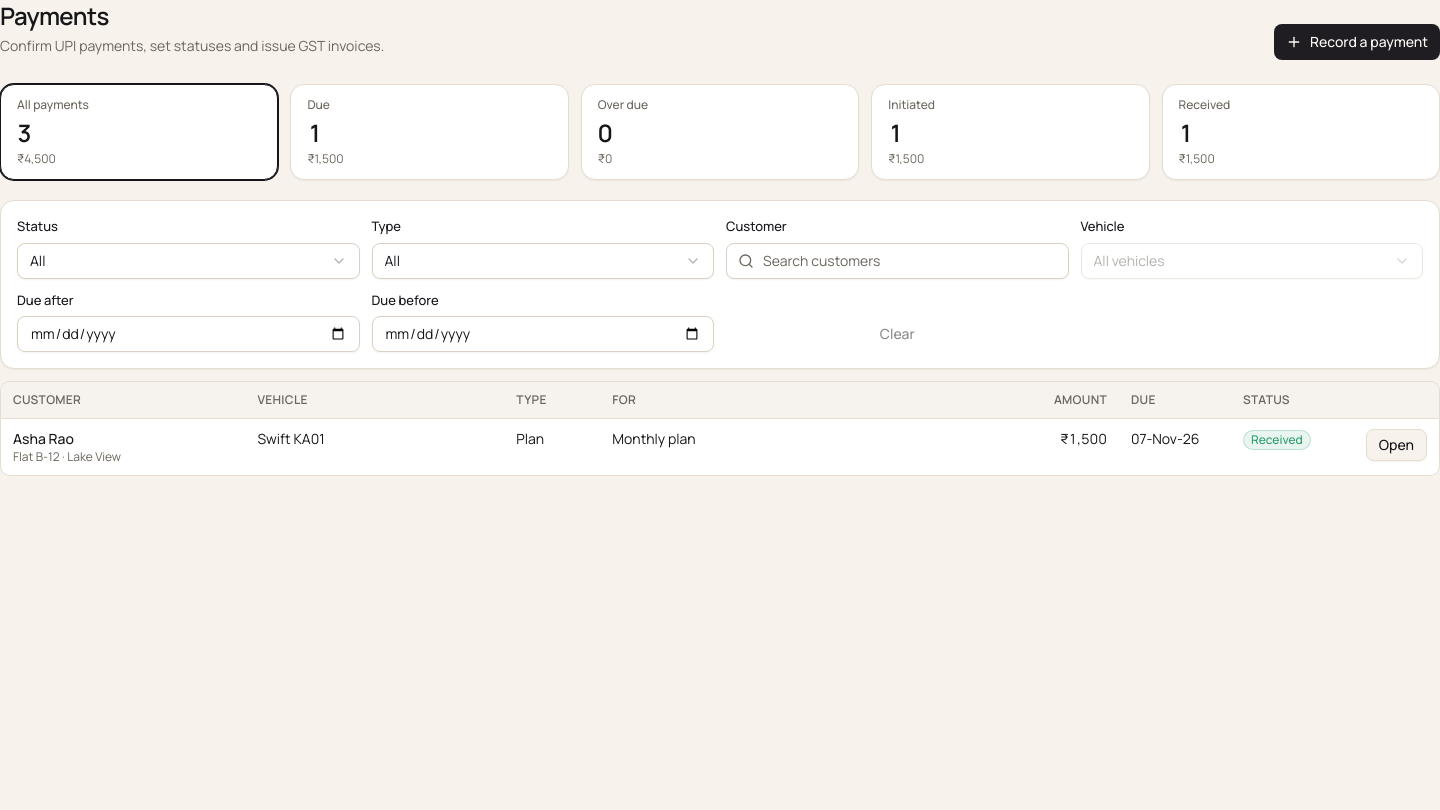
Test: payments page › issues an invoice for a Received payment after asking
Click the button "Open".
click(1396, 444)  # box [1366, 428, 1427, 460]
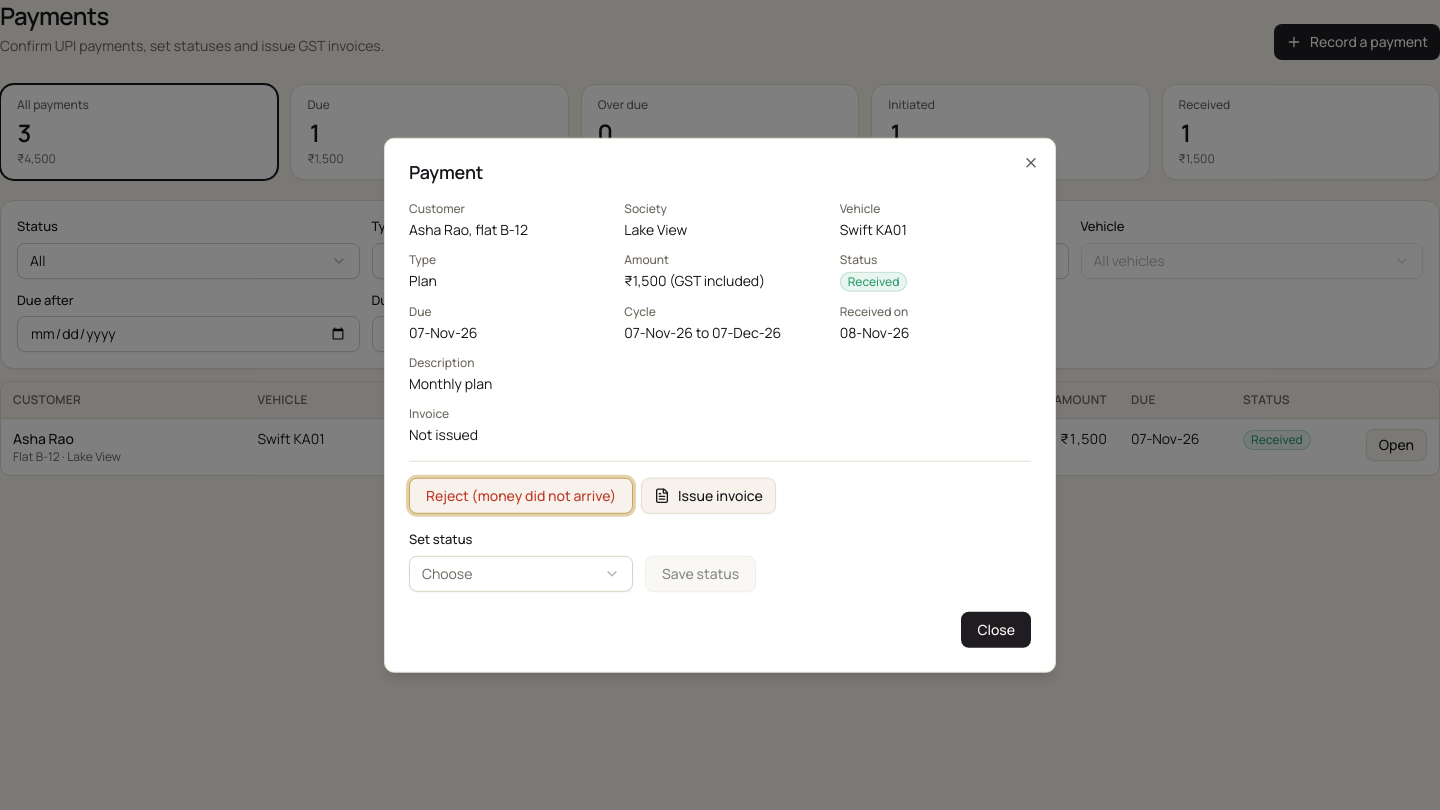
Click the button "Issue invoice".
click(708, 496)  # box [641, 478, 776, 514]
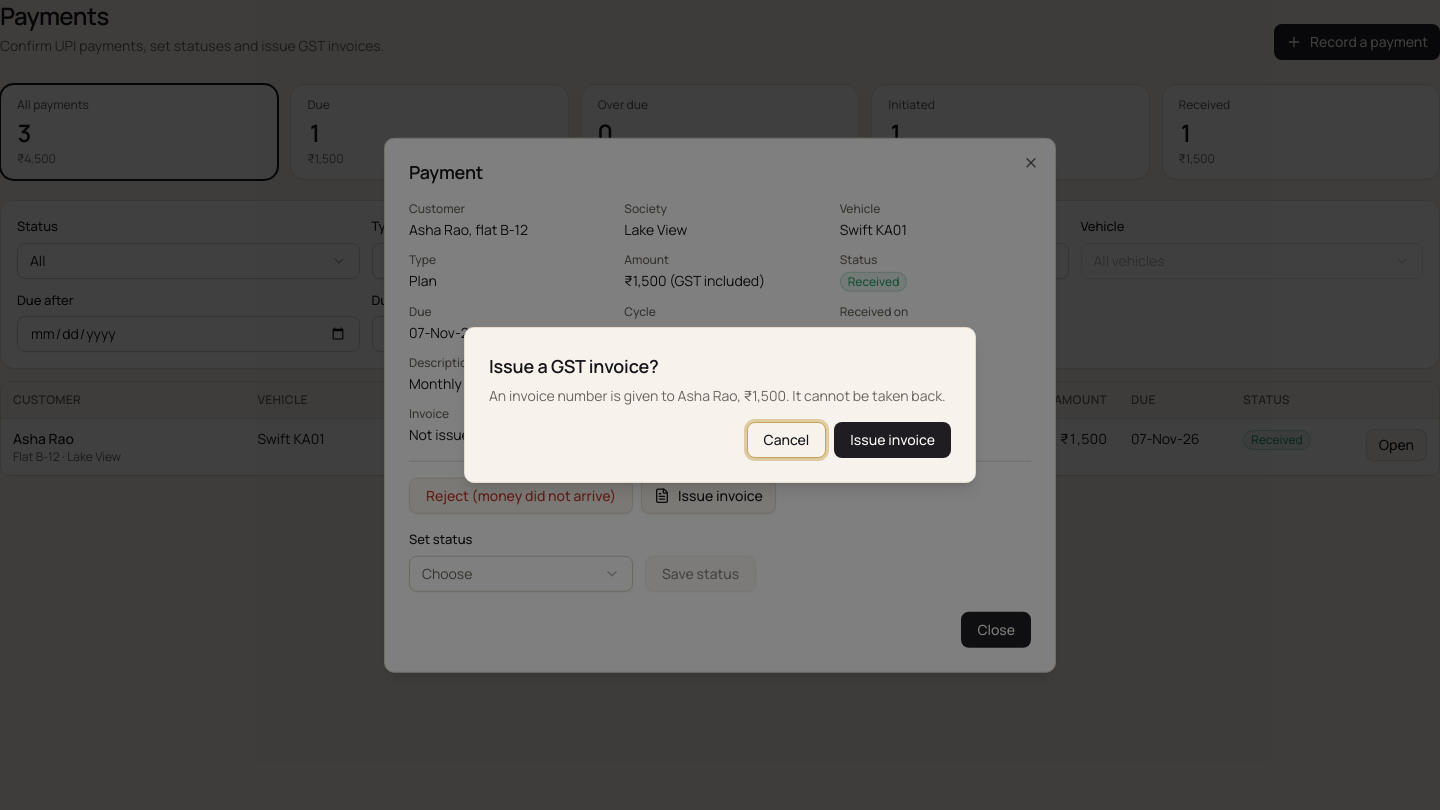
Click the button "Issue invoice".
click(893, 440)  # box [834, 422, 951, 458]
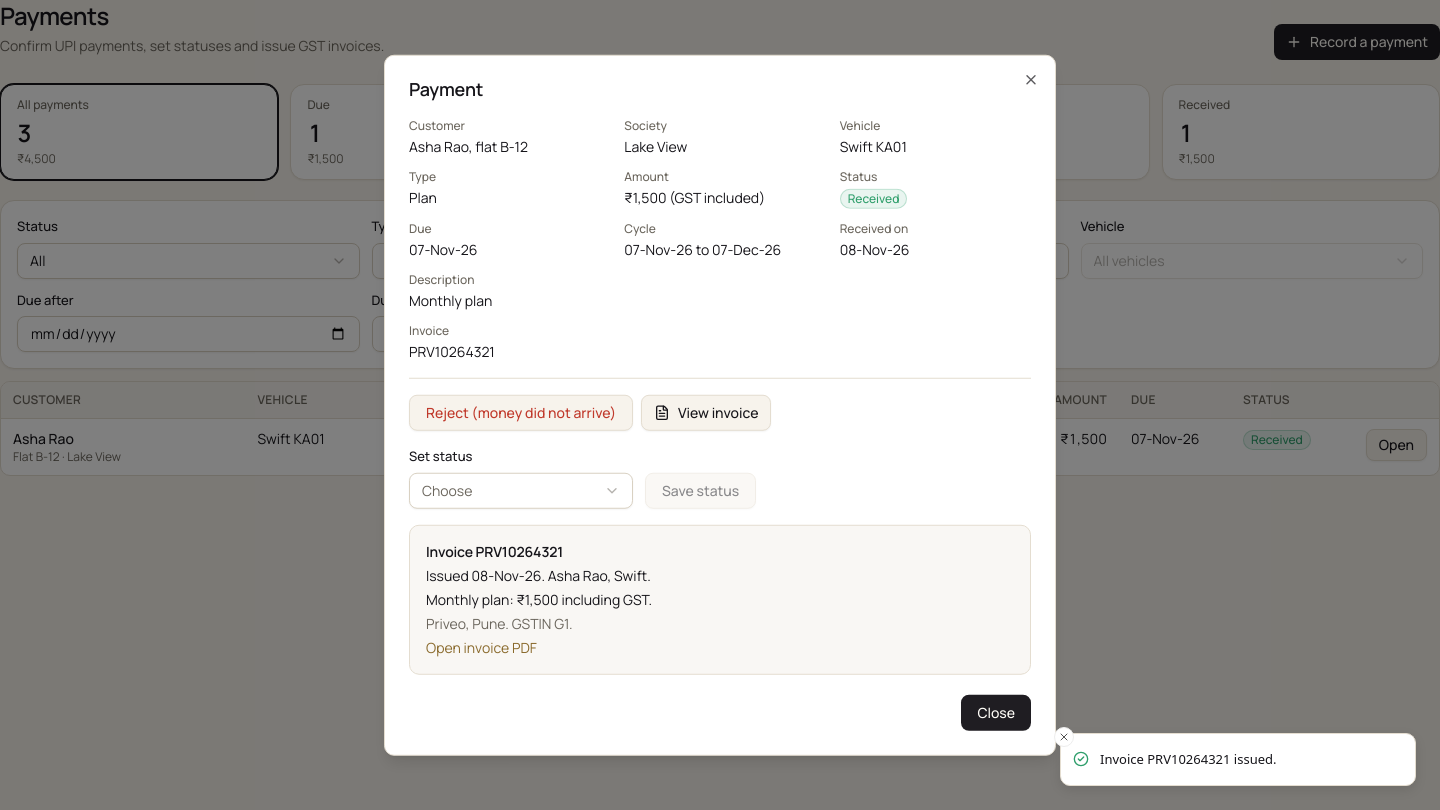
Expected: the heading "Invoice PRV10264321" is shown, [426, 541, 563, 560]
